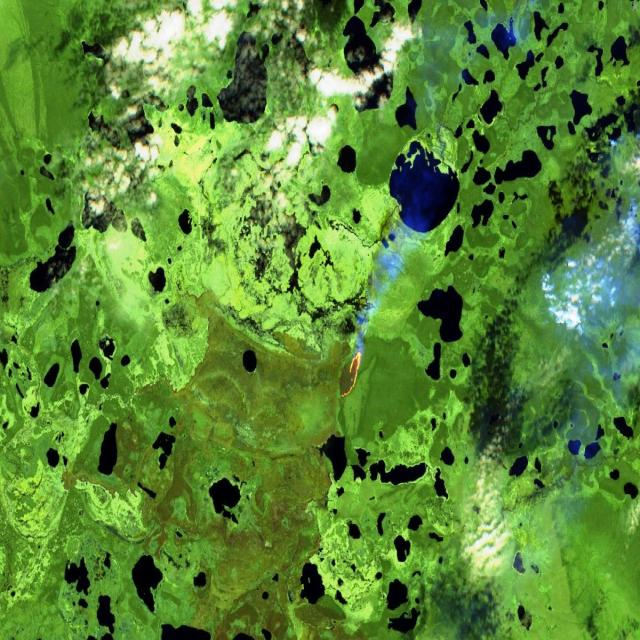fire: (334, 340, 369, 405)
